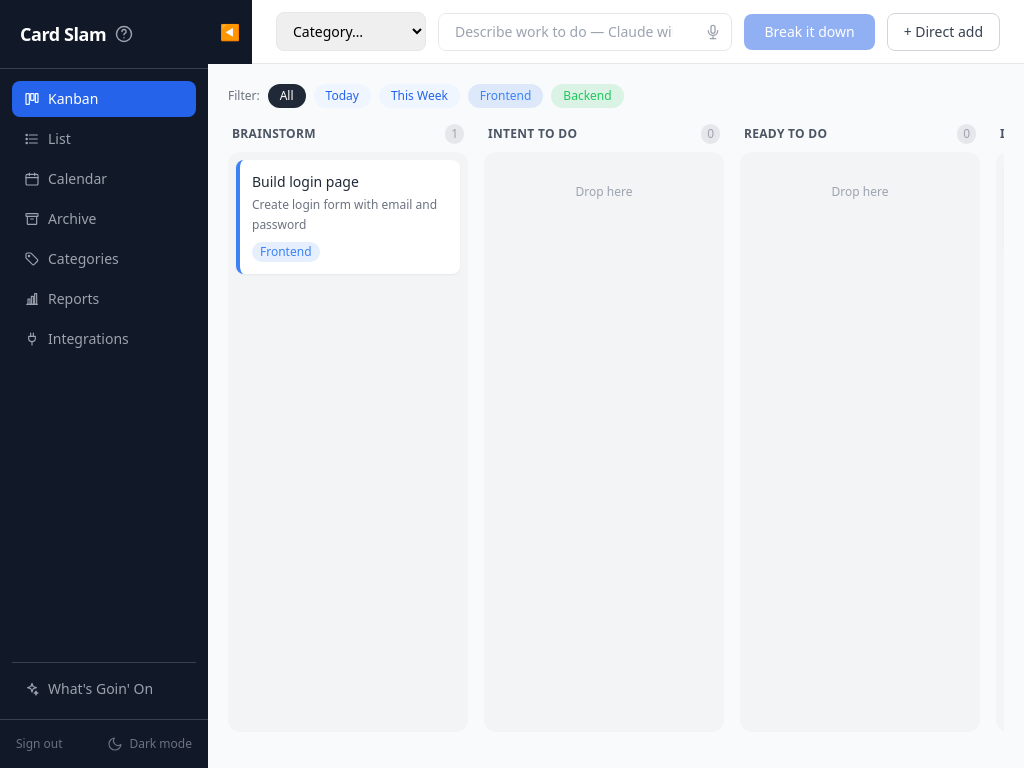
it: Layout sidebar › clicking What's Goin' On opens the summary modal
Click the button "What's Goin' On".
click(104, 689)  # box [12,671,196,707]
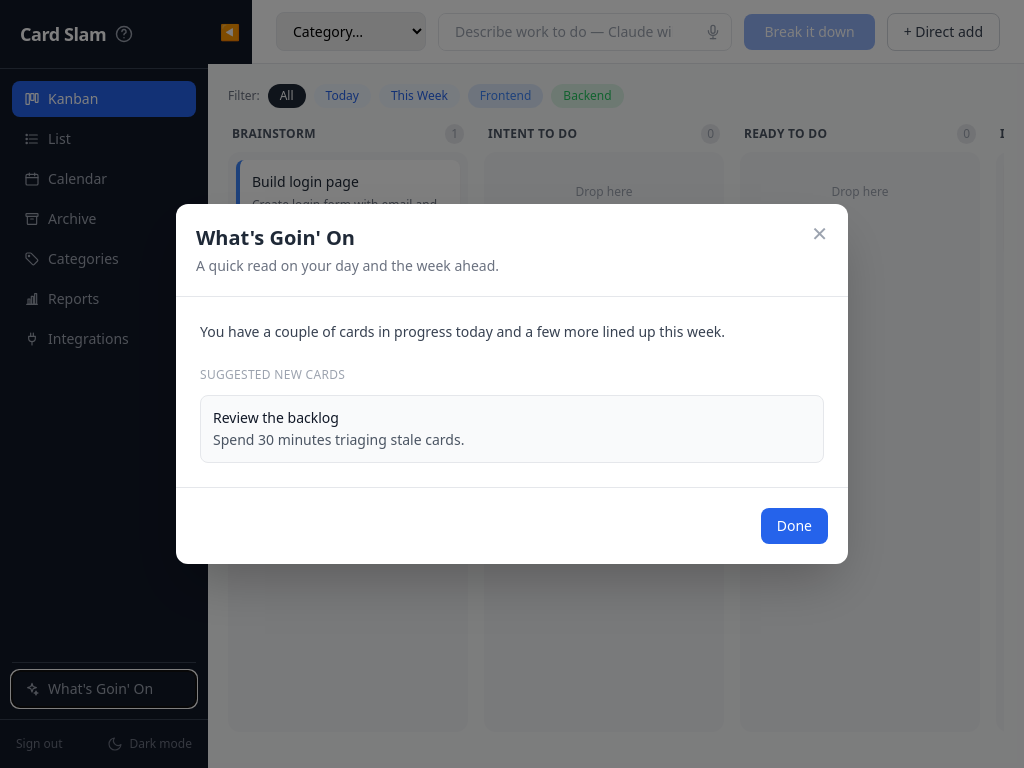
Result: the dialog with test id "whats-goin-on-modal" is shown
